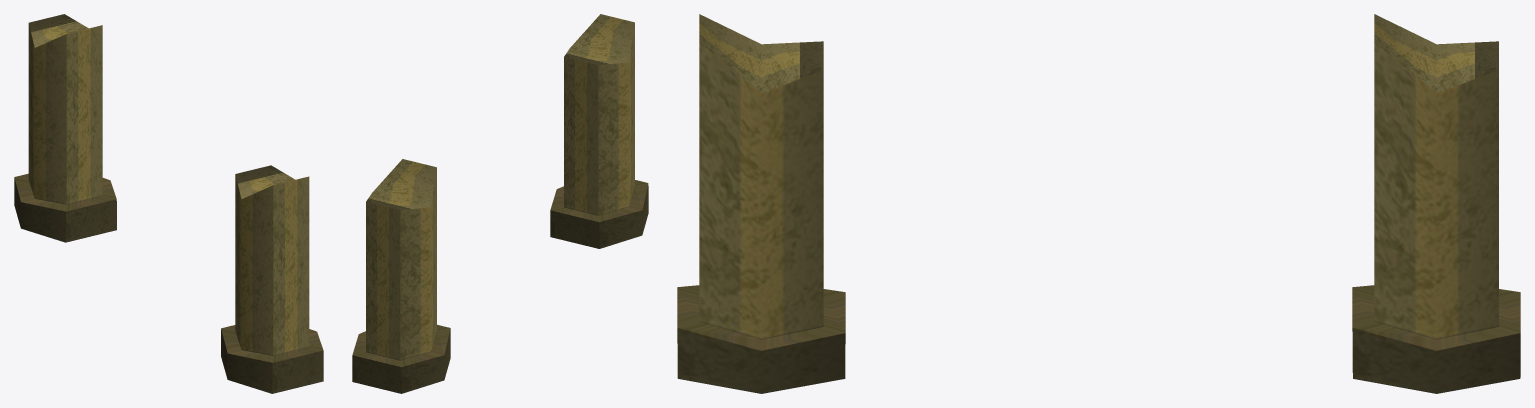
The model's file is columnas.FBX.
3 views of the same model, side by side, from view 1: azimuth 30°, elevation 25°; view 2: azimuth 150°, elevation 25°; view 3: azimuth 270°, elevation 25° (orthographic). The views are drawn at different scales.
Parts seen in each view (by area): view 1: Box064; view 2: Box064; view 3: Box064.
Boxes of the visible parts, x1,y1,x2,y2 form: Box064: (14, 14, 323, 393); Box064: (352, 14, 648, 393); Box064: (677, 14, 1520, 393).
Bounding box in the file's own units: 400 × 863 × 1999.
Materials: 1 (1 with a texture image).
